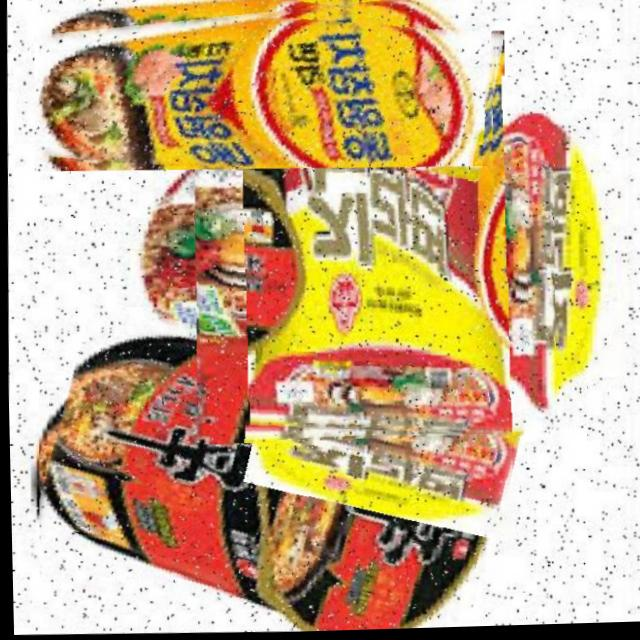Miscellaneous: (30, 316, 516, 640), (185, 73, 558, 449), (29, 0, 500, 179)
